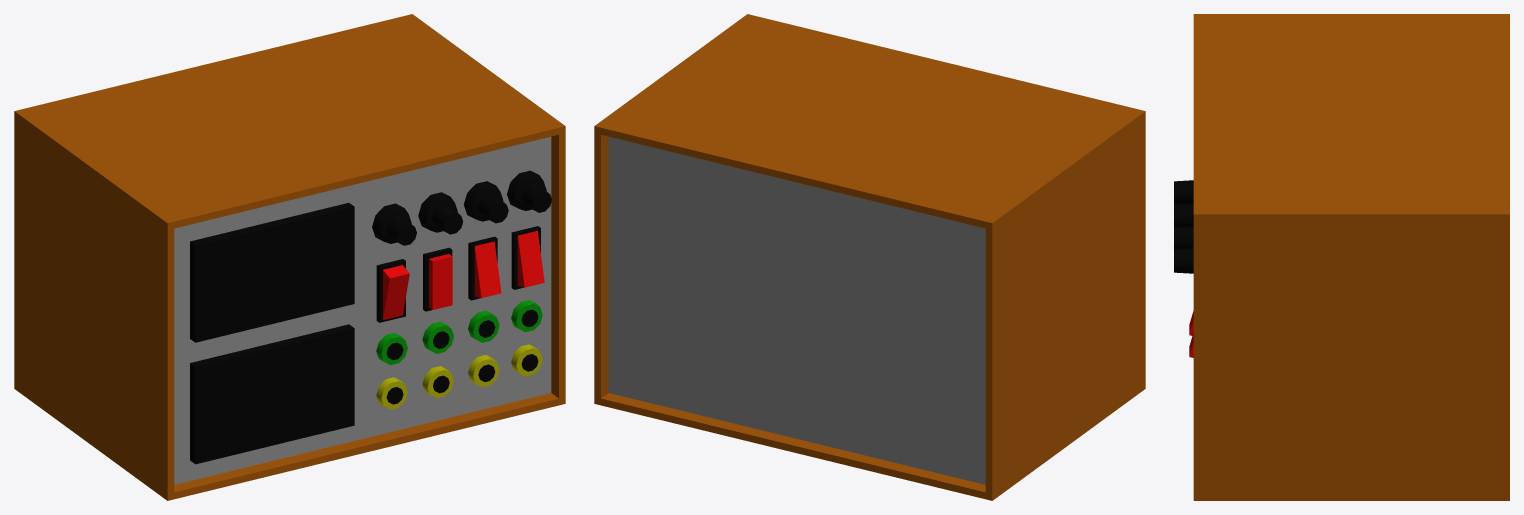
The model's file is Control_Box.fbx.
3 renders of one model, left to right at view 1: azimuth 30°, elevation 25°; view 2: azimuth 150°, elevation 25°; view 3: azimuth 270°, elevation 25°, orthographic. The views are drawn at different scales.
Parts seen in each view (by area): view 1: pCube43; view 2: pCube43; view 3: pCube43.
Part boxes in pixels (<box>): pCube43: <box>14,14,565,500</box>; pCube43: <box>594,14,1145,500</box>; pCube43: <box>1174,14,1509,500</box>.
Bounding box in the file's own units: 60 × 42.49 × 40.
